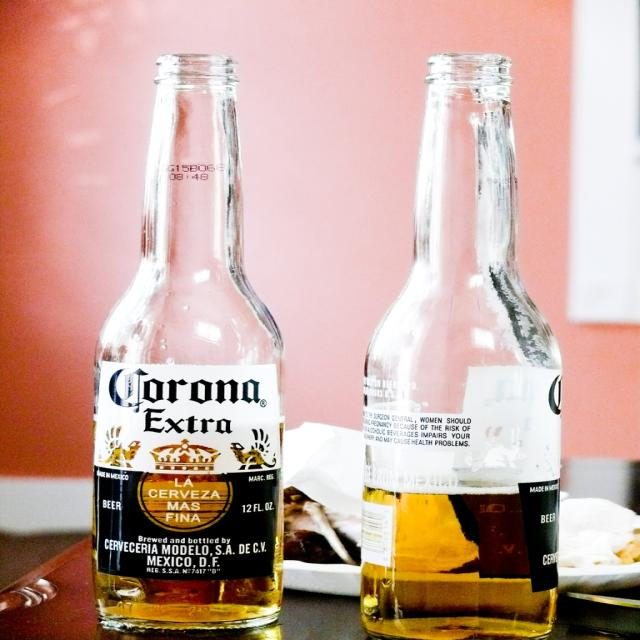corona: (95, 361, 283, 582)
